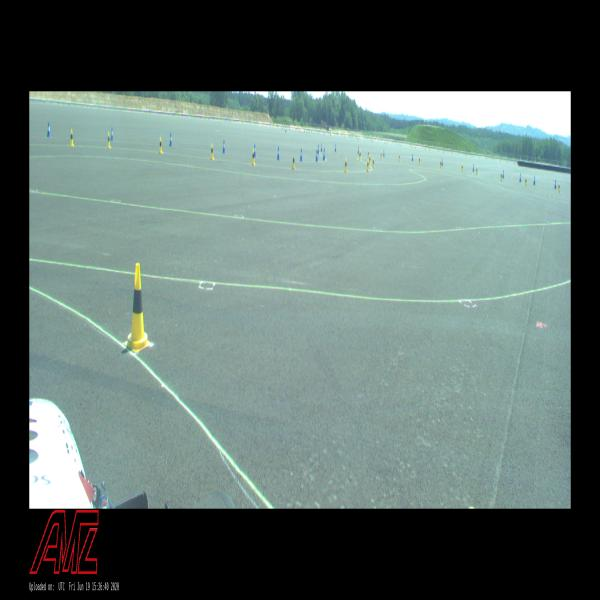blue_cone: (110, 126, 114, 142), (47, 122, 51, 137), (169, 132, 173, 147), (222, 139, 226, 154), (277, 146, 280, 161), (300, 148, 303, 162), (315, 149, 318, 162), (519, 172, 522, 183), (554, 179, 557, 189), (533, 176, 536, 186), (502, 169, 505, 178), (323, 149, 325, 161), (318, 145, 320, 155), (383, 149, 385, 158), (412, 153, 414, 162), (441, 158, 443, 166), (255, 143, 256, 158), (321, 143, 322, 152), (335, 143, 336, 152), (358, 145, 359, 154), (473, 164, 474, 172)
yellow_cone: (124, 263, 150, 353), (70, 128, 74, 147), (159, 136, 163, 154), (210, 143, 214, 160), (344, 157, 348, 173), (107, 132, 111, 148), (292, 152, 295, 169), (252, 148, 255, 165), (366, 159, 369, 172), (372, 156, 374, 169), (524, 176, 526, 187), (369, 154, 371, 165), (476, 166, 478, 176), (558, 182, 560, 192), (380, 150, 382, 160), (359, 150, 361, 160), (500, 172, 502, 182), (461, 163, 463, 172), (367, 150, 369, 158), (440, 159, 441, 168), (399, 153, 400, 161), (419, 156, 420, 164)
